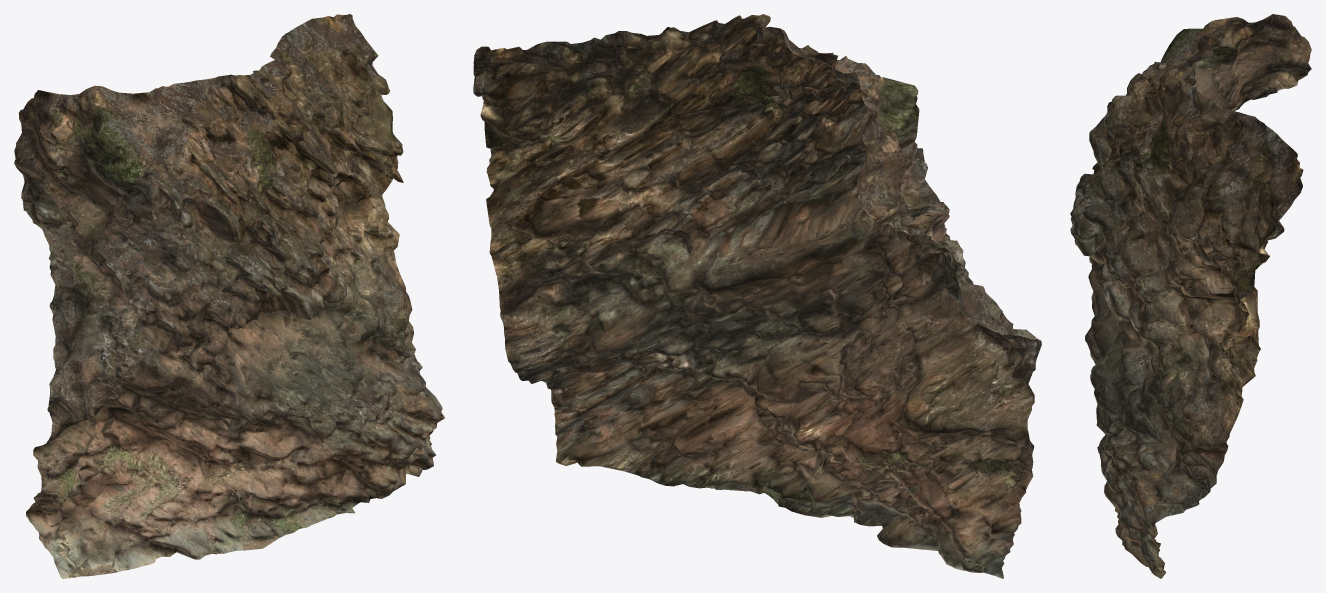
File: mountainside.glb
3 views of the same model, side by side, from view 1: azimuth 30°, elevation 25°; view 2: azimuth 150°, elevation 25°; view 3: azimuth 270°, elevation 25° (orthographic). The views are drawn at different scales.
Visible parts, largest first — view 1: mountainside; view 2: mountainside; view 3: mountainside.
Part boxes in pixels (x1,y1,x2,y2): mountainside: (14, 14, 444, 578); mountainside: (473, 14, 1041, 578); mountainside: (1070, 14, 1311, 578).
Bounding box in the file's own units: 10.21 × 10.52 × 5.25.
1 material, 1 textured.
